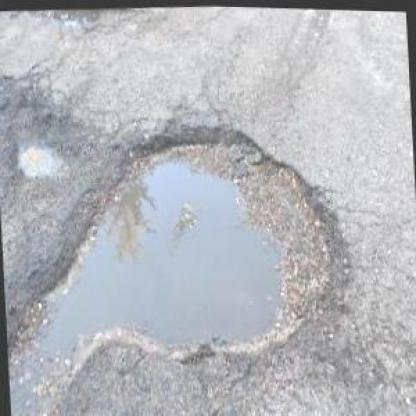pothole: (43, 104, 358, 374)
